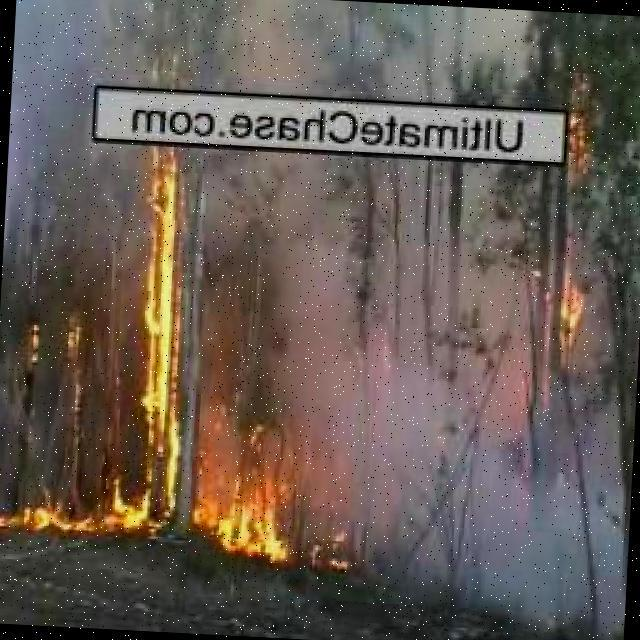Fire: (0, 457, 318, 562), (134, 145, 192, 466), (556, 93, 599, 195), (544, 272, 590, 354), (57, 315, 91, 371), (25, 309, 45, 371)
